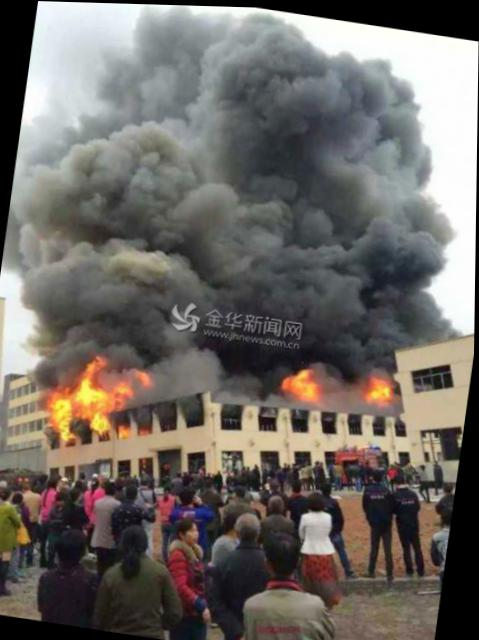fire: (70, 372, 112, 417), (43, 385, 74, 438), (281, 364, 323, 400), (362, 373, 396, 405), (109, 380, 134, 408), (89, 411, 113, 433), (84, 355, 107, 375), (134, 365, 153, 384), (116, 419, 132, 436)
